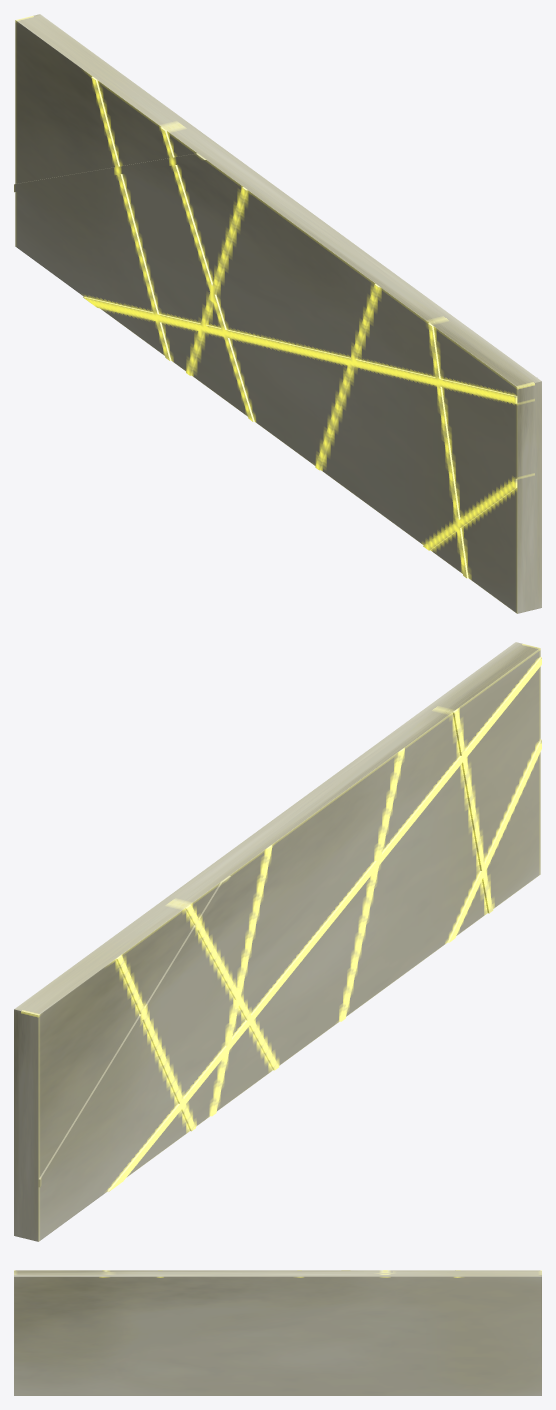
File: NorthWall.fbx
3 views of the same model, one above another, from view 1: azimuth 30°, elevation 25°; view 2: azimuth 150°, elevation 25°; view 3: azimuth 270°, elevation 25° (orthographic). The views are drawn at different scales.
Visible parts, largest first — view 1: Export Wall 4; view 2: Export Wall 4; view 3: Export Wall 4.
Part boxes in pixels (x1=…): Export Wall 4: x1=14, y1=14, x2=541, y2=613; Export Wall 4: x1=14, y1=642, x2=541, y2=1241; Export Wall 4: x1=14, y1=1270, x2=541, y2=1395.
Bounding box in the file's own units: 42.58 × 351 × 1411.
